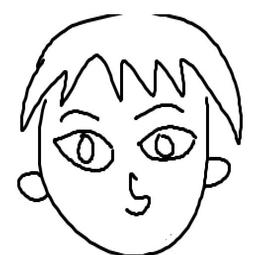ear: (13, 166, 52, 207), (204, 154, 233, 189)
eye: (50, 130, 116, 174), (135, 123, 199, 162)
eyebrow: (133, 100, 185, 120), (55, 108, 103, 125)
nose: (119, 172, 153, 219)
